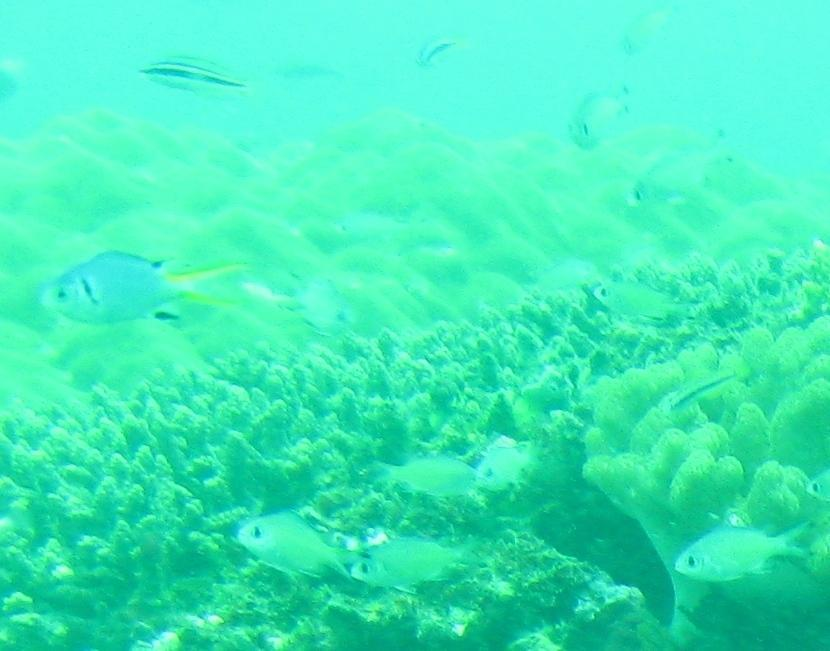Fish: (37, 242, 288, 334)
